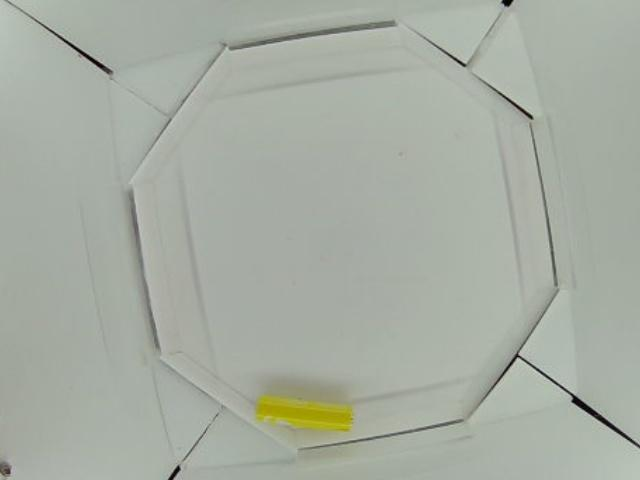Battery: (251, 394, 356, 431)
